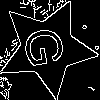G: (22, 23, 75, 70)
